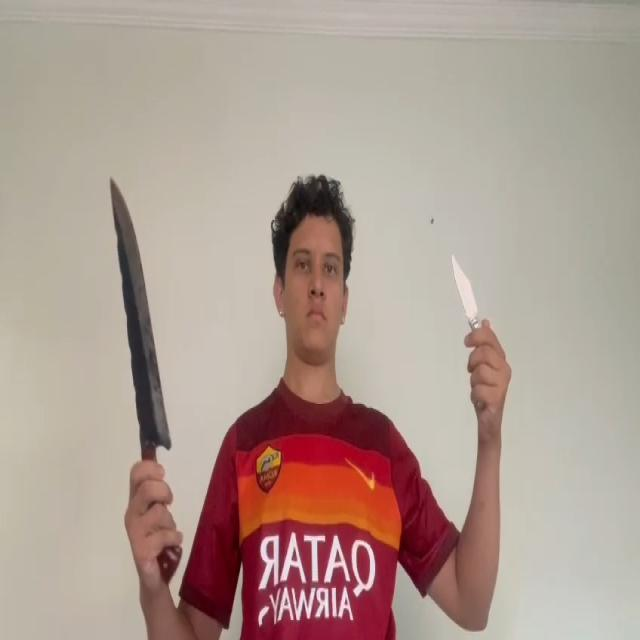knife: (110, 175, 174, 449), (452, 253, 477, 326)
